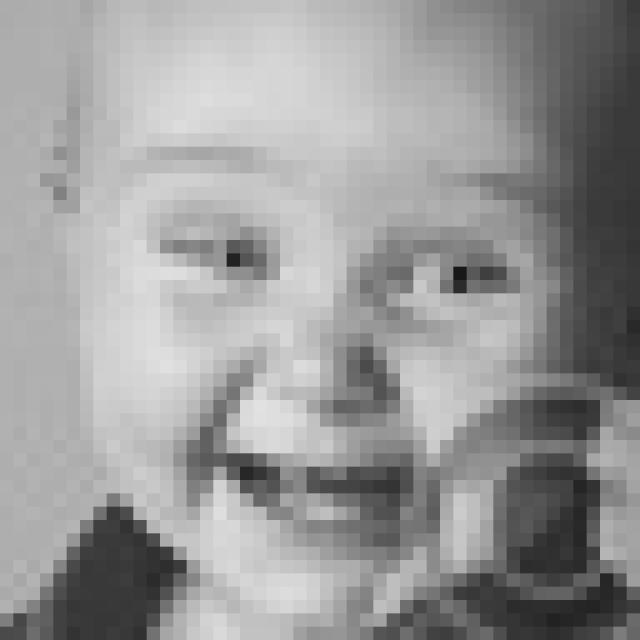happy: (136, 135, 563, 550)
